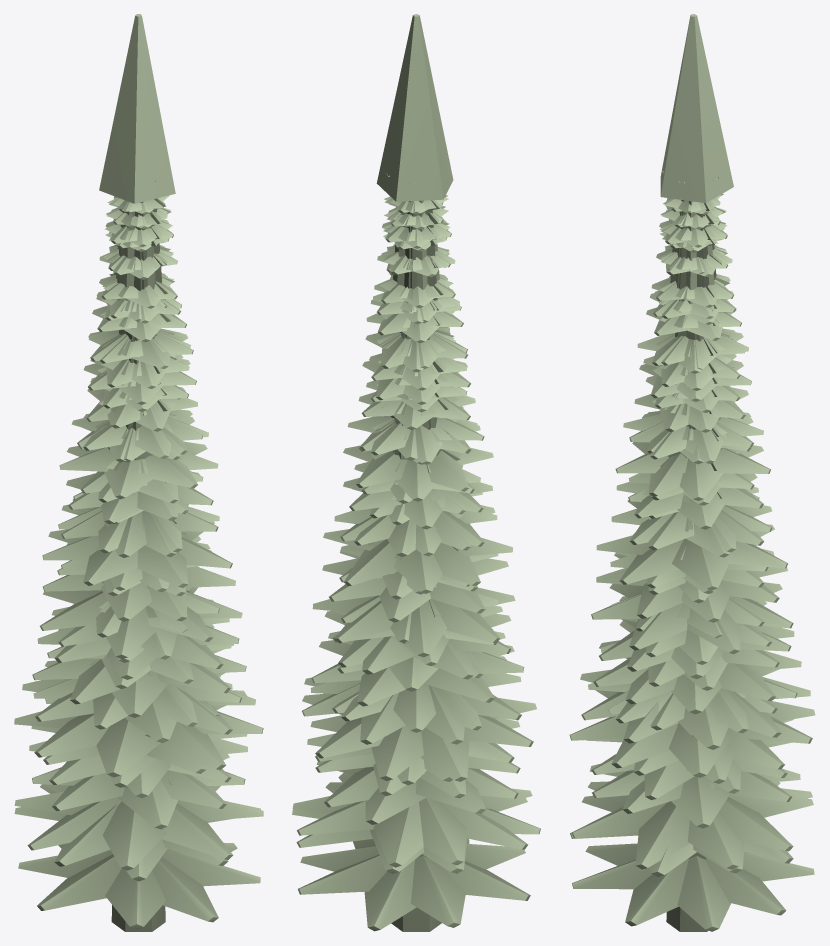
File: tree_douglas.glb
3 views of the same model, side by side, from view 1: azimuth 30°, elevation 25°; view 2: azimuth 150°, elevation 25°; view 3: azimuth 270°, elevation 25° (orthographic).
Parts seen in each view (by area): view 1: tier2_foliage, tier0_foliage, tier1_foliage, tier0_bark; view 2: tier2_foliage, tier0_foliage, tier1_foliage, tier0_bark; view 3: tier2_foliage, tier0_foliage, tier1_foliage, tier0_bark.
Part boxes in pixels (bbox=[...]): tier2_foliage: bbox=[14, 180, 263, 777]; tier0_foliage: bbox=[14, 14, 263, 929]; tier1_foliage: bbox=[14, 180, 260, 881]; tier0_bark: bbox=[111, 905, 165, 931]; tier2_foliage: bbox=[302, 195, 536, 781]; tier0_foliage: bbox=[292, 14, 532, 931]; tier1_foliage: bbox=[292, 176, 540, 873]; tier0_bark: bbox=[391, 854, 441, 931]; tier2_foliage: bbox=[569, 172, 815, 777]; tier0_foliage: bbox=[571, 14, 814, 931]; tier1_foliage: bbox=[570, 171, 813, 876]; tier0_bark: bbox=[666, 852, 708, 931].
Bounding box in the file's own units: 0.2507 × 1 × 0.246.
